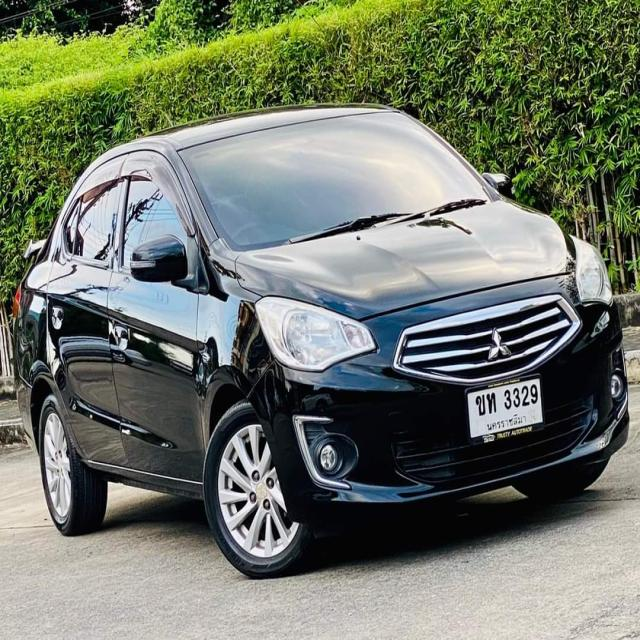license_plate: (464, 374, 546, 448)
